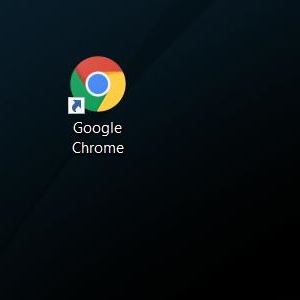chrome: (67, 55, 125, 113)
